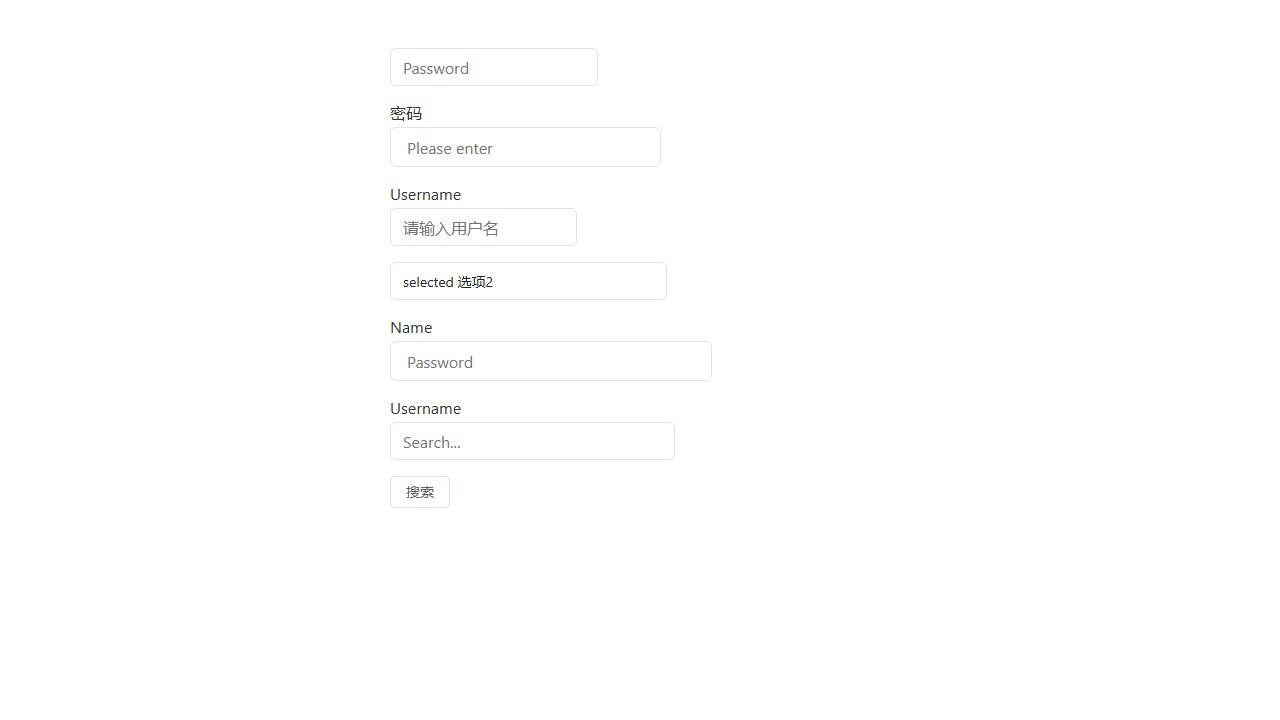button: (390, 476, 450, 508)
input: (390, 341, 712, 381), (390, 127, 661, 167), (390, 422, 675, 460), (390, 48, 598, 86), (390, 208, 577, 246)
select: (390, 262, 667, 300)
